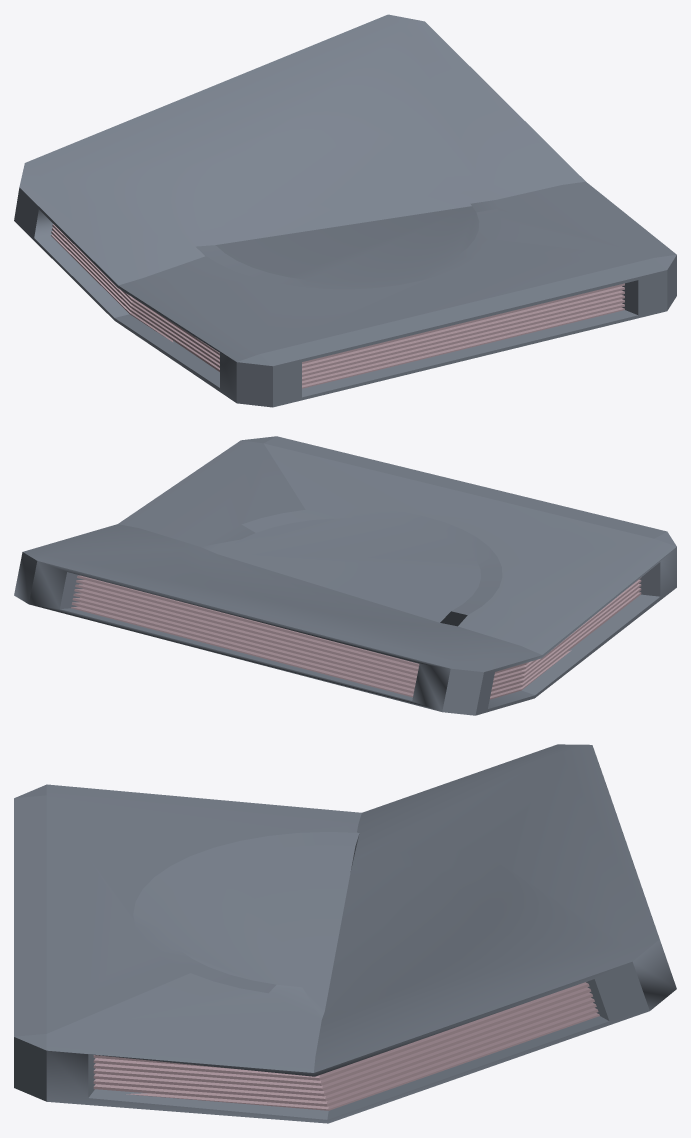
The model's file is 3_st_geometry-panic-factory_002.fbx.
3 views of the same model, one above another, from view 1: azimuth 30°, elevation 25°; view 2: azimuth 150°, elevation 25°; view 3: azimuth 270°, elevation 25° (orthographic). The views are drawn at different scales.
Visible parts, largest first — view 1: 3_st.geometry-panic-factory.002; view 2: 3_st.geometry-panic-factory.002; view 3: 3_st.geometry-panic-factory.002.
Part boxes in pixels (left/top/right/bottom): 3_st.geometry-panic-factory.002: left=14, top=14, right=676, bottom=407; 3_st.geometry-panic-factory.002: left=14, top=436, right=676, bottom=715; 3_st.geometry-panic-factory.002: left=14, top=744, right=676, bottom=1123.
Bounding box in the file's own units: 1.01 × 0.2675 × 0.9998.
